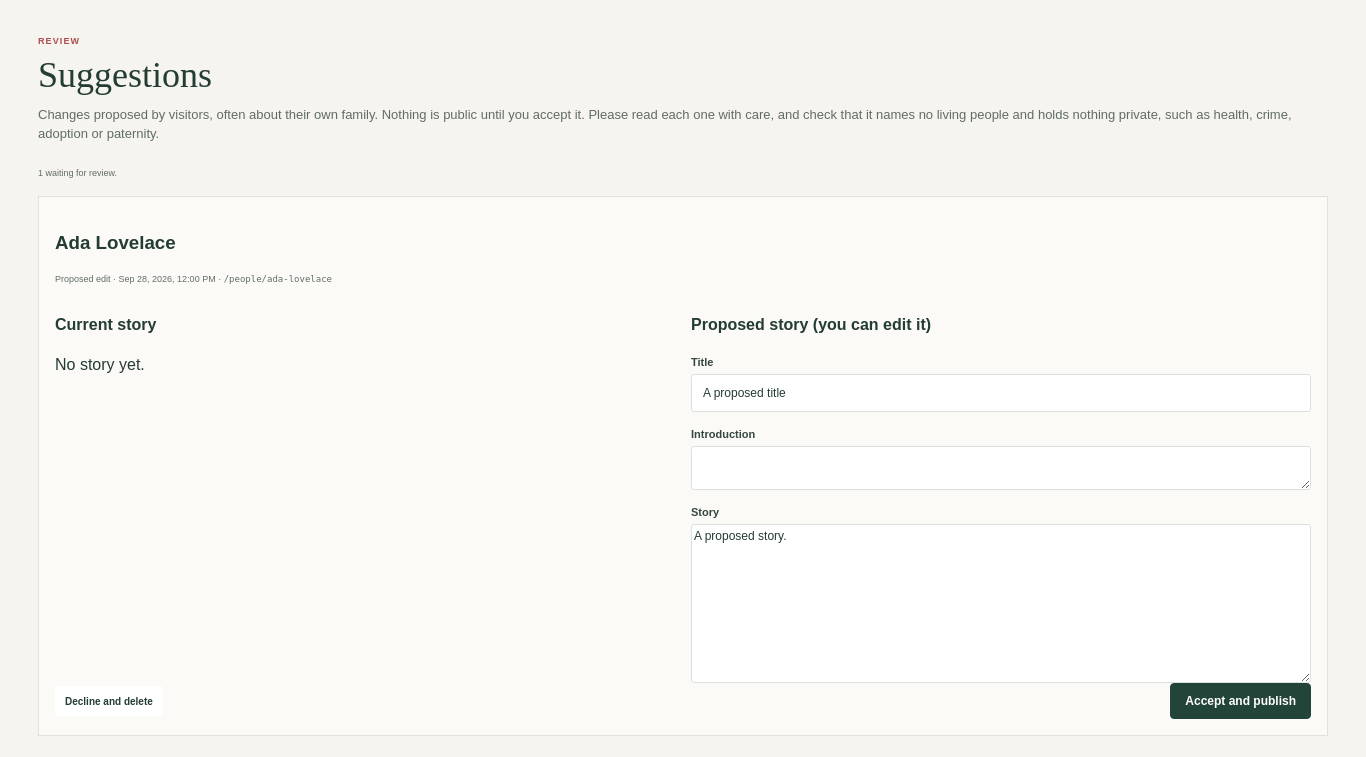
the review queue › keeps a suggestion and explains when a decision fails
Click the button "Decline and delete" at coordinates (109, 701), box [55, 686, 163, 716]
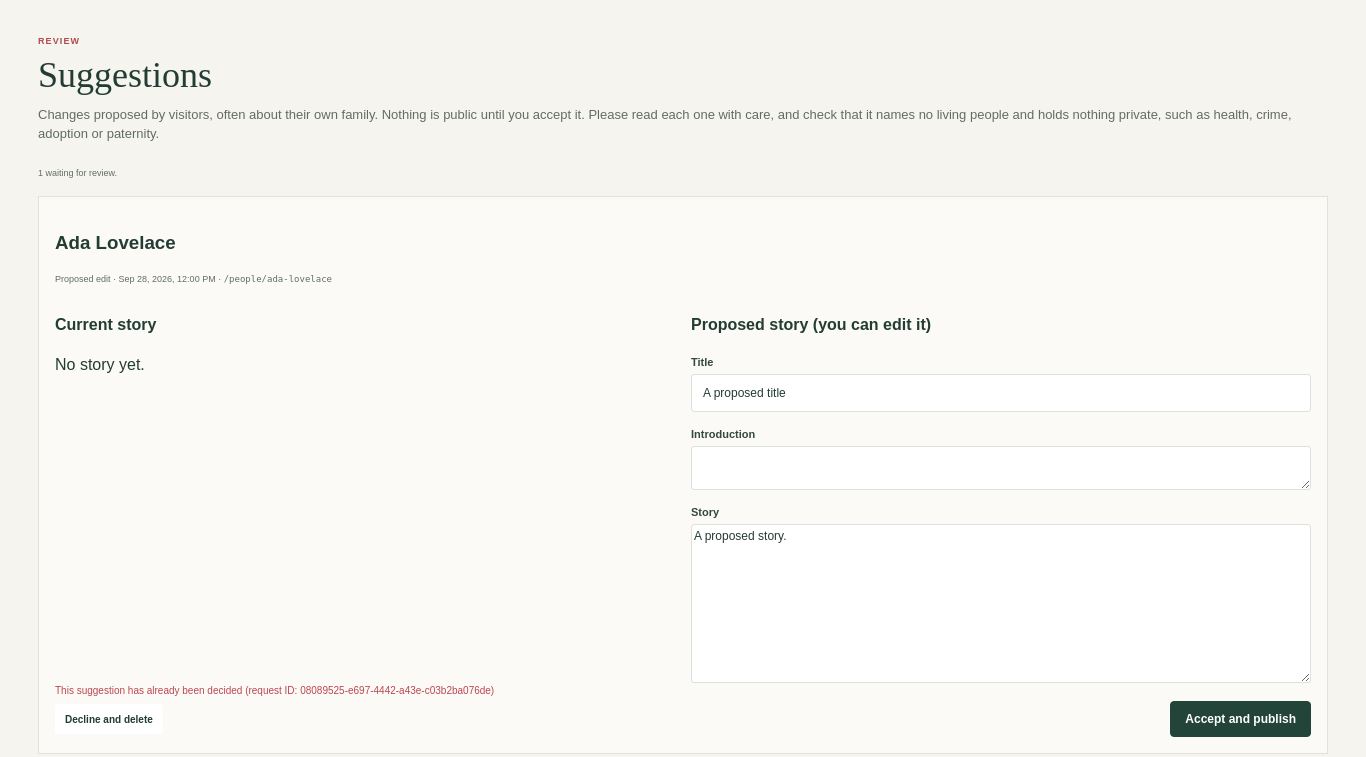
Expected: the button "Decline and delete" is enabled, [55, 704, 163, 734]
Expected: the 2nd message shows "already been decided", [55, 685, 494, 696]
